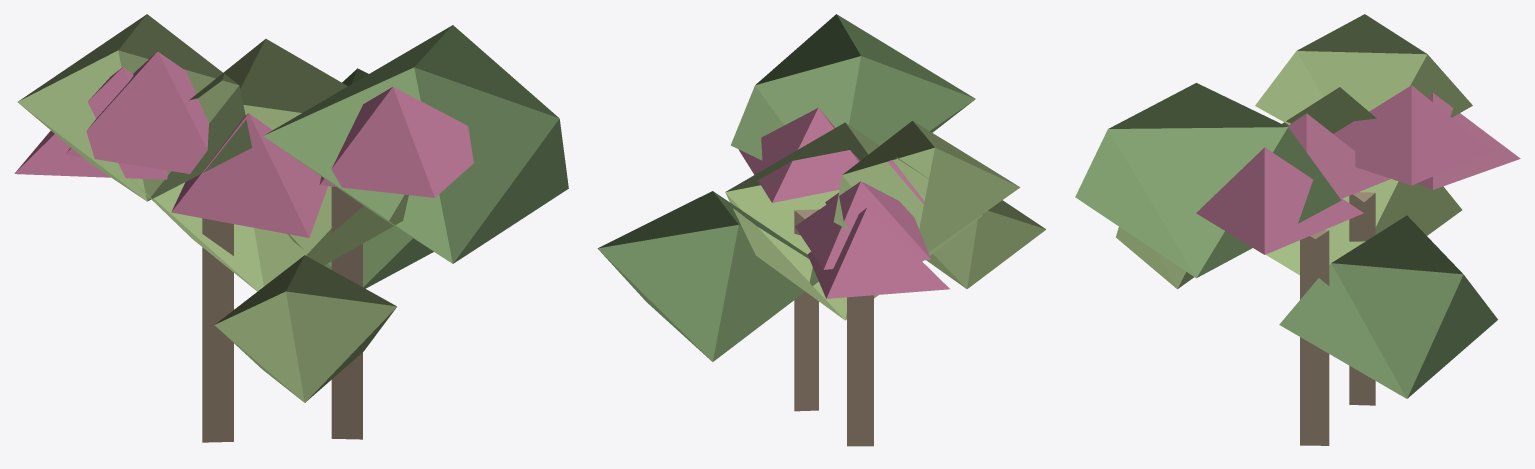
File: shrub.sub.mountain_bush__spring.glb
3 renders of one model, left to right at view 1: azimuth 30°, elevation 25°; view 2: azimuth 150°, elevation 25°; view 3: azimuth 270°, elevation 25°, orthographic. The views are drawn at different scales.
Parts seen in each view (by area): view 1: shrub.sub.mountain_bush__spring; view 2: shrub.sub.mountain_bush__spring; view 3: shrub.sub.mountain_bush__spring.
Part boxes in pixels (x1,y1,x2,y2): shrub.sub.mountain_bush__spring: (14, 14, 568, 442); shrub.sub.mountain_bush__spring: (597, 14, 1045, 446); shrub.sub.mountain_bush__spring: (1075, 14, 1520, 445).
Size of the model in its own units: 2.14 by 1.95 by 2.08.
